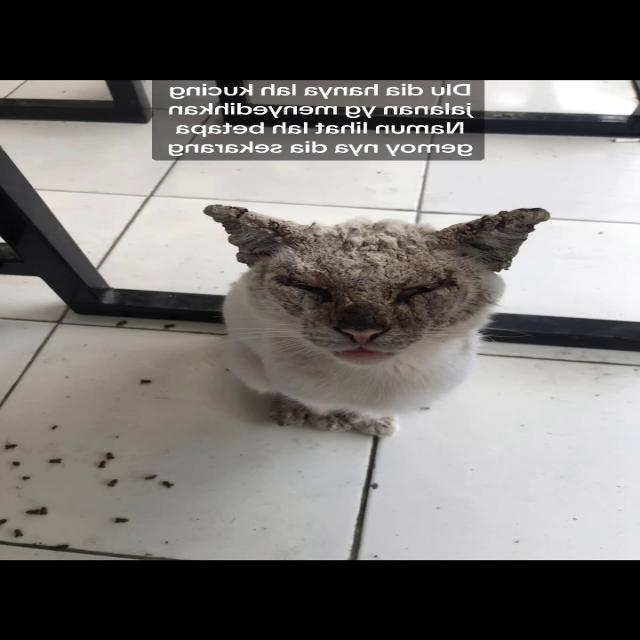ghe: (380, 192, 552, 323), (208, 203, 364, 325)
